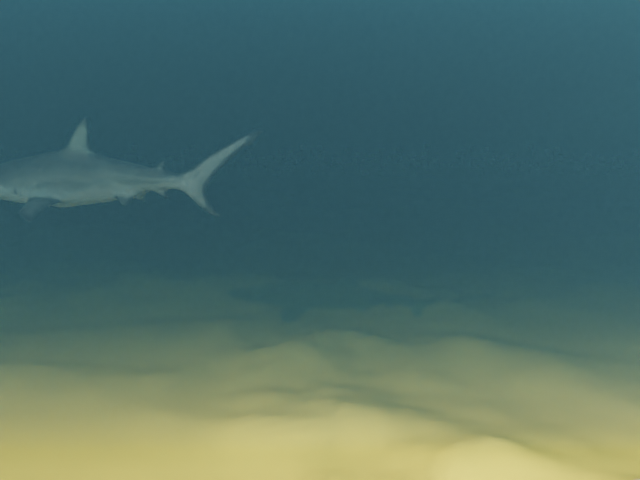Carribean Shark.001: (0, 118, 262, 221)
